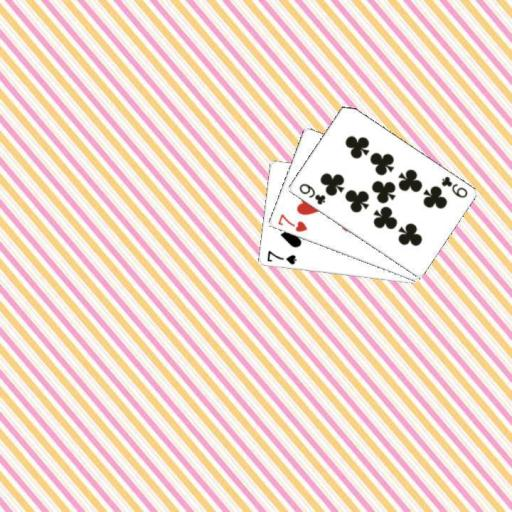card-corner: (437, 173, 469, 200), (295, 180, 327, 206), (274, 210, 308, 234), (263, 247, 298, 266)
